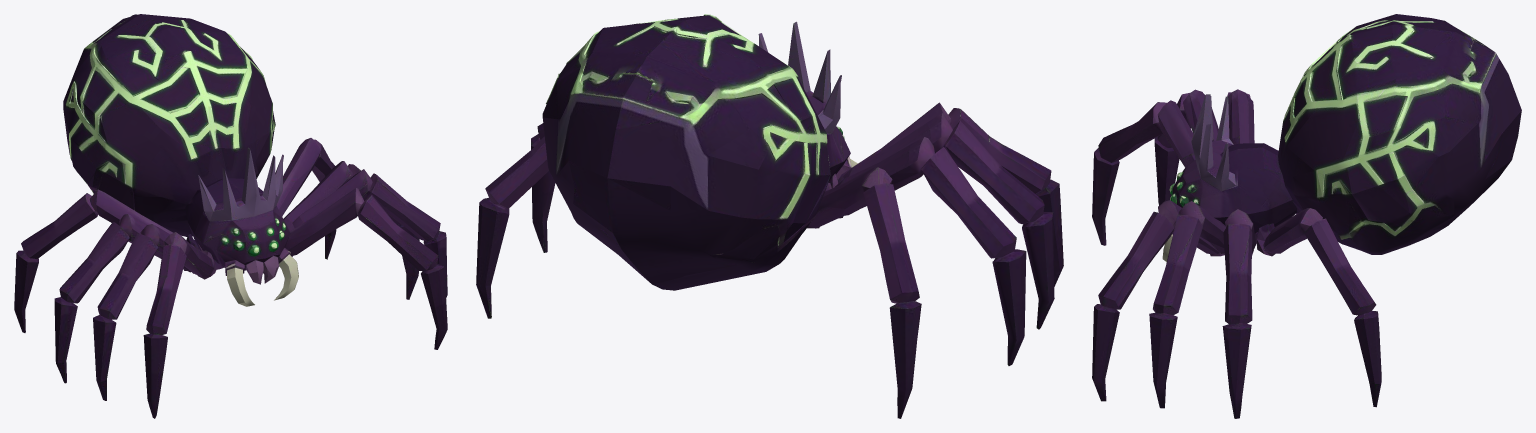
The model's file is spider_queen.glb.
The picture shows the model from 3 angles, left to right: view 1: azimuth 30°, elevation 25°; view 2: azimuth 150°, elevation 25°; view 3: azimuth 270°, elevation 25°; orthographic projection. The views are drawn at different scales.
Visible parts, largest first — view 1: Abdomen, Head, R1, L1, L4, L2, L3, R2, Body, R4, R3; view 2: Abdomen, L3, L4, L2, R4, L1, Head, Body, R3; view 3: Abdomen, R4, Body, R2, R1, R3, L1, Head, L2, L3.
Boxes of the visible parts, x1,y1,x2,y2 form: Abdomen: [63, 14, 275, 236]; Head: [198, 148, 320, 306]; R1: [288, 188, 447, 349]; L1: [143, 232, 213, 418]; L4: [14, 189, 173, 332]; L2: [93, 224, 194, 400]; L3: [54, 214, 184, 383]; R2: [292, 169, 447, 297]; Body: [185, 154, 292, 279]; R4: [276, 138, 336, 259]; R3: [283, 161, 419, 299]; Abdomen: [542, 14, 830, 290]; L3: [835, 137, 1026, 365]; L4: [807, 167, 921, 418]; L2: [843, 113, 1054, 329]; R4: [476, 136, 548, 318]; L1: [857, 102, 1063, 286]; Head: [758, 21, 857, 180]; Body: [807, 75, 857, 191]; R3: [531, 123, 555, 252]; Abdomen: [1265, 14, 1521, 254]; R4: [1257, 208, 1381, 407]; Body: [1207, 96, 1292, 256]; R2: [1149, 201, 1225, 408]; R1: [1092, 200, 1207, 401]; R3: [1222, 209, 1255, 418]; L1: [1092, 100, 1194, 245]; Head: [1162, 94, 1221, 261]; L2: [1154, 89, 1218, 205]; L3: [1227, 89, 1254, 144].
Size of the model in its own units: 1.44 by 1 by 1.31.
Materials: 1 (1 with a texture image).
